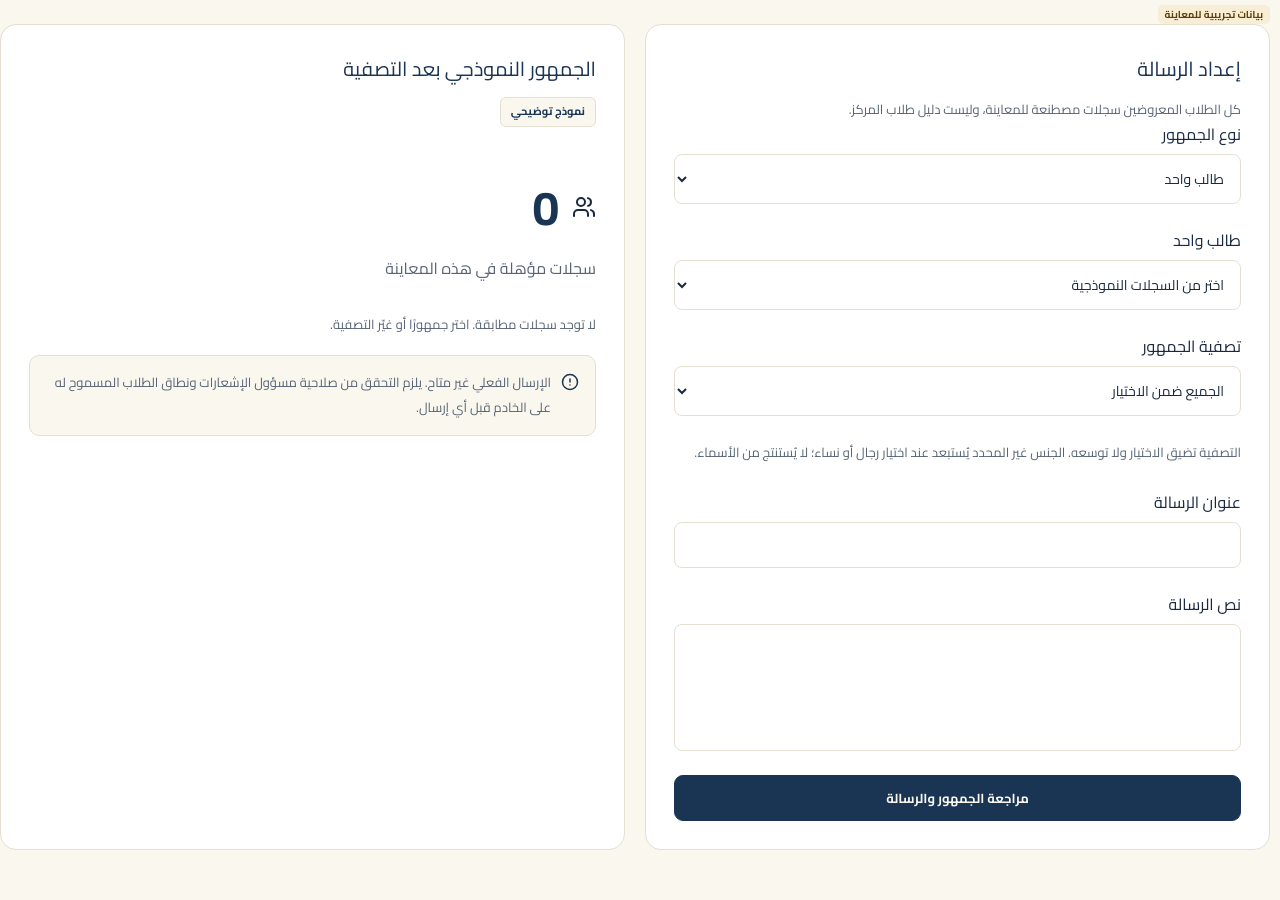
Test: ADMIN-NOTIFY-20261023 administrative audience preview › validates before review and keeps admin permission wording separate from teacher wording
This screenshot has width=1280, height=900.
What coordinates should you click on to do the following:
click the button "مراجعة الجمهور والرسالة"
I would click on:
 (958, 798)
Its box is [674,775,1241,821].
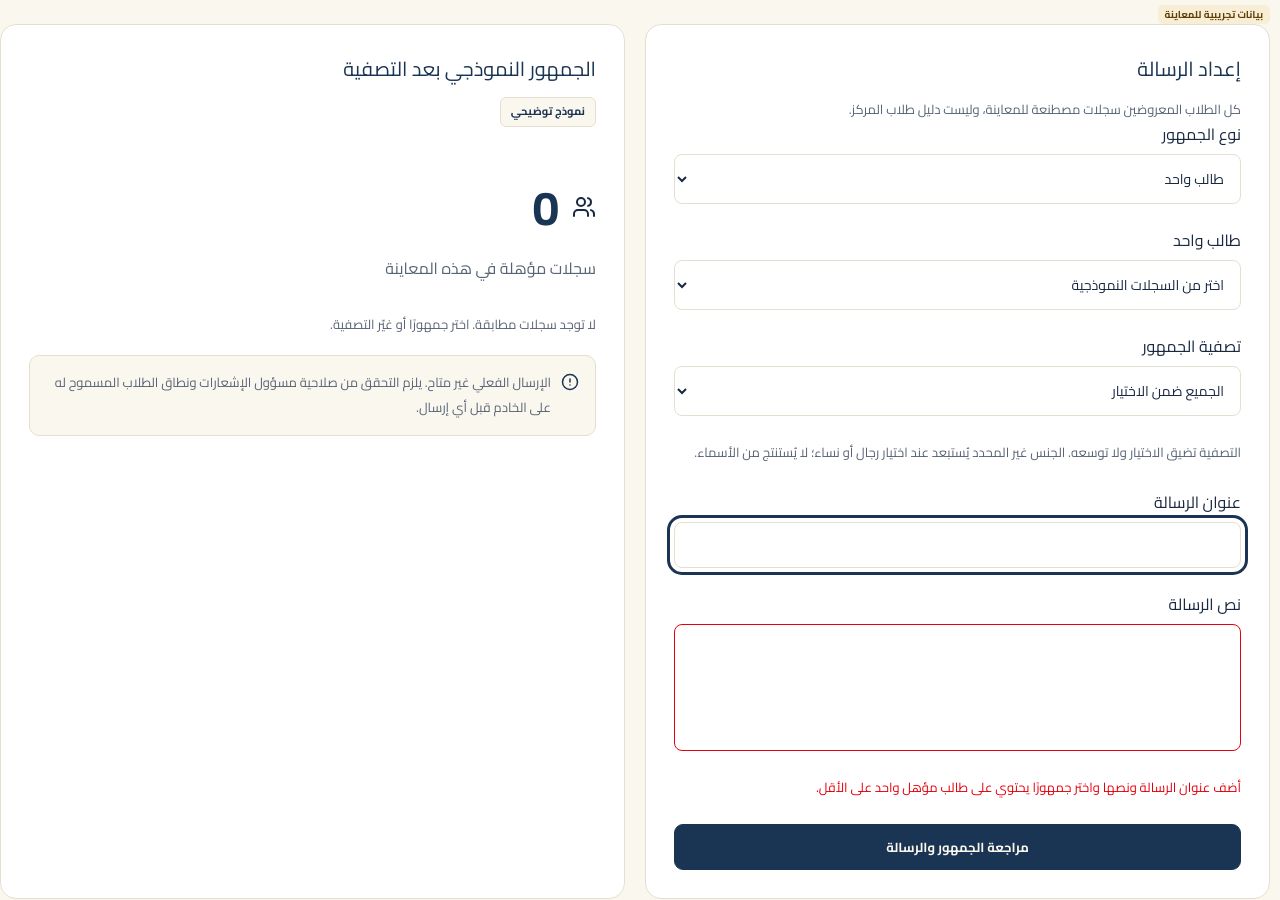
Expected: the text "صلاحية مسؤول الإشعارات" is shown, [55,370,551,419]
Expected: the message shows "اختر جمهورًا", [816,775,1241,799]
